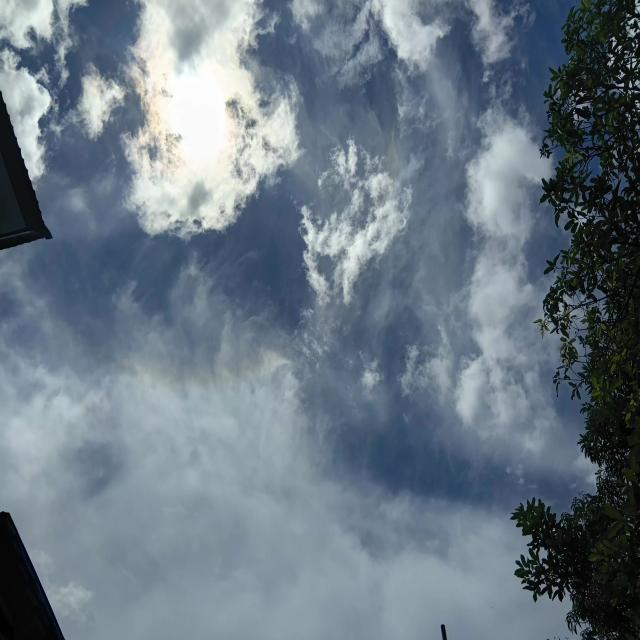cumulus: (63, 33, 500, 598)
